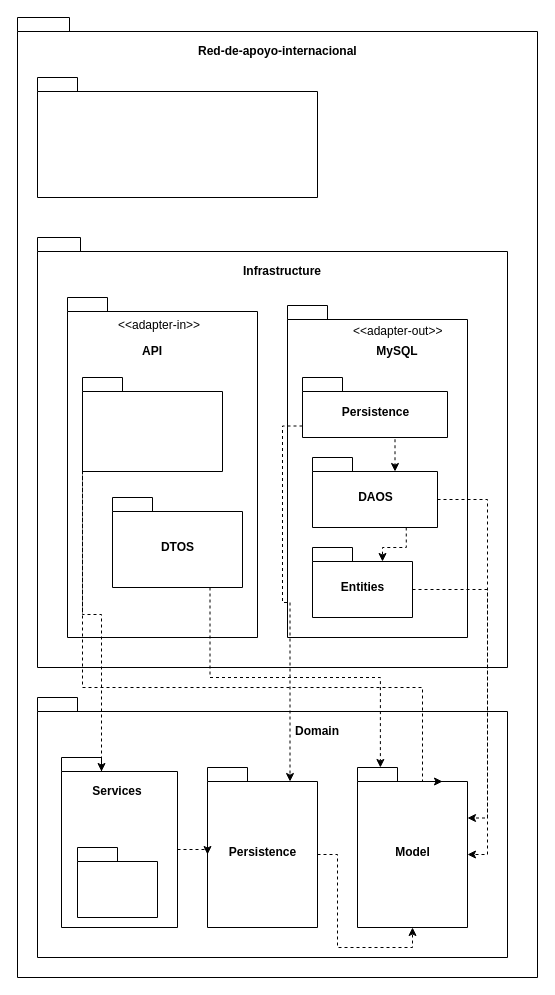
Some shapes in this 555 by 995 pixel diagram are drawn without their labels. Here are the shapes that lost their labels. From the top down, the centre of each, then its label:
At [177,137]: "Configurations".
At [152,424]: "Resources".
At [117,882]: "Utils".
